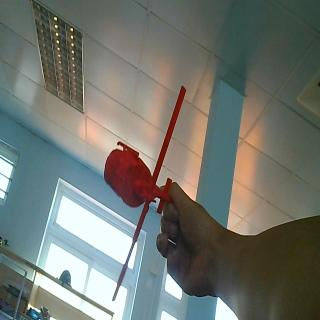Helicopter: (102, 85, 188, 301)
